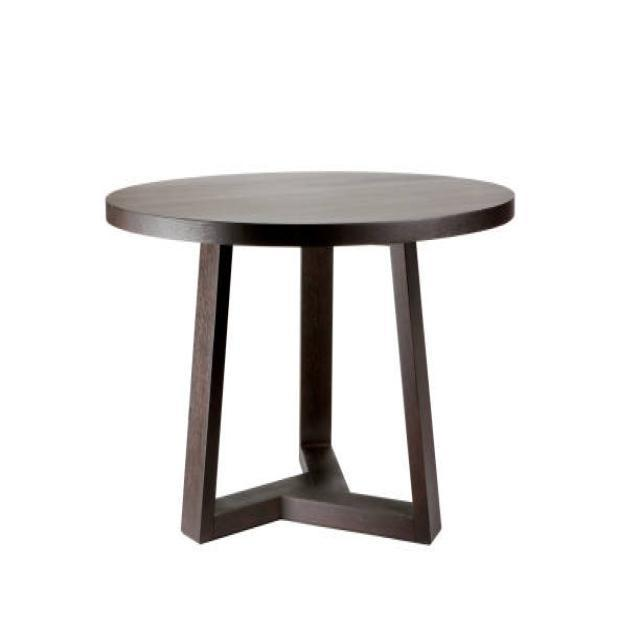table: (104, 168, 516, 546)
